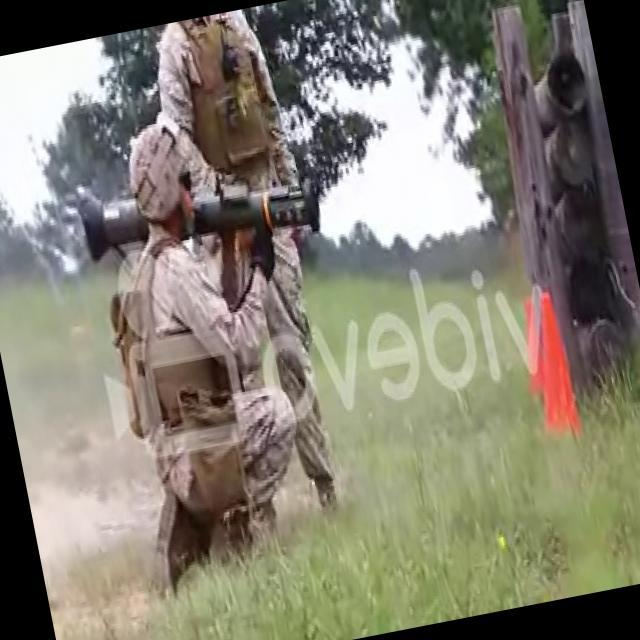rocket: (74, 147, 324, 284)
